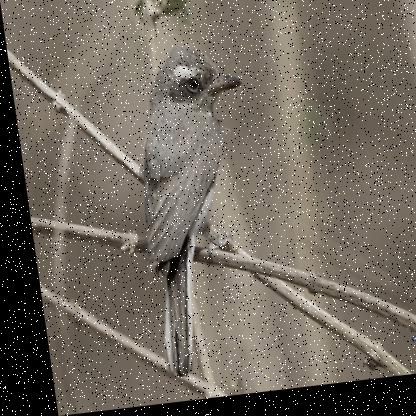Burung: (112, 41, 270, 381)
